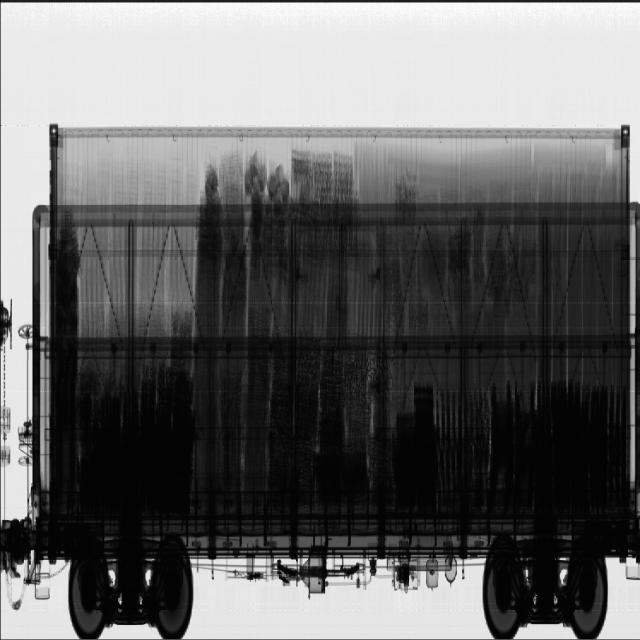bicycle: (51, 150, 609, 474)
